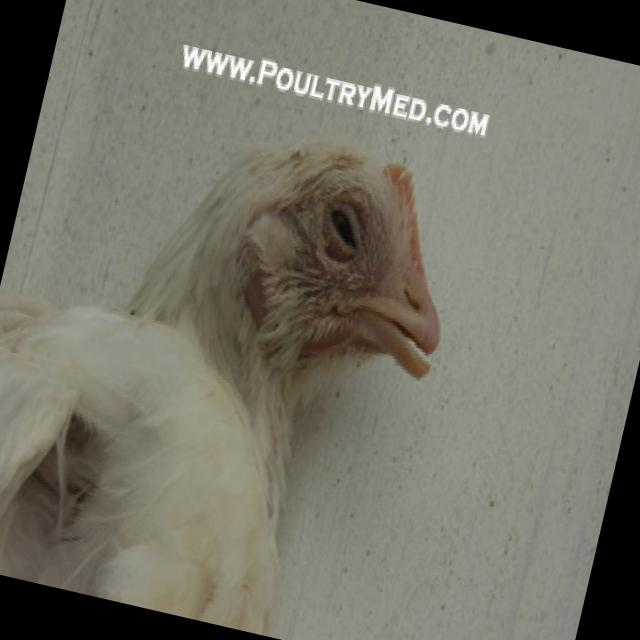Infectios bronchitis: (204, 126, 470, 416)
